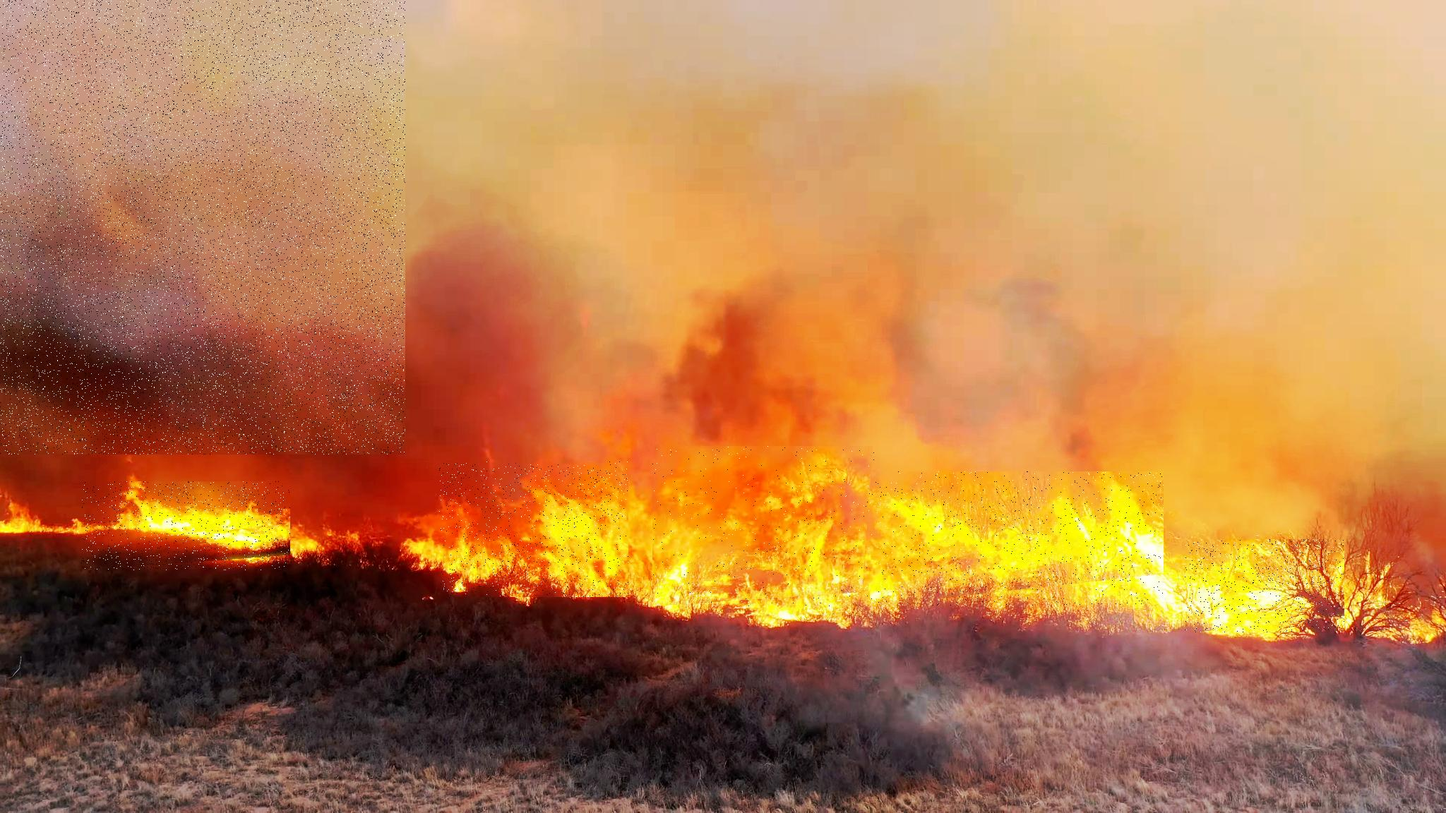fire: (876, 471, 1164, 606), (652, 446, 874, 607), (439, 462, 628, 597), (81, 481, 290, 570), (1185, 539, 1344, 632)
smoke: (0, 0, 405, 454)
